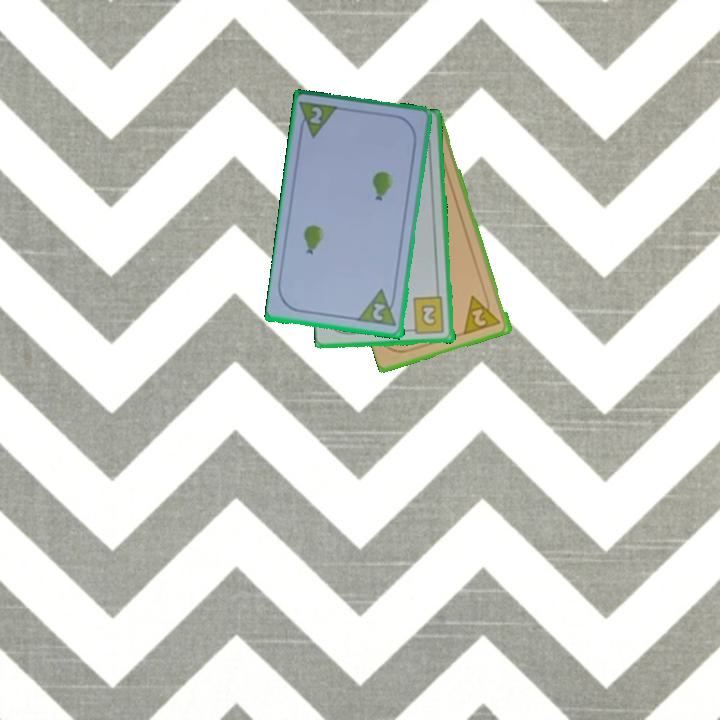2b: (405, 294, 447, 337)
2p: (461, 289, 505, 337), (296, 98, 342, 142), (369, 299, 389, 324)
